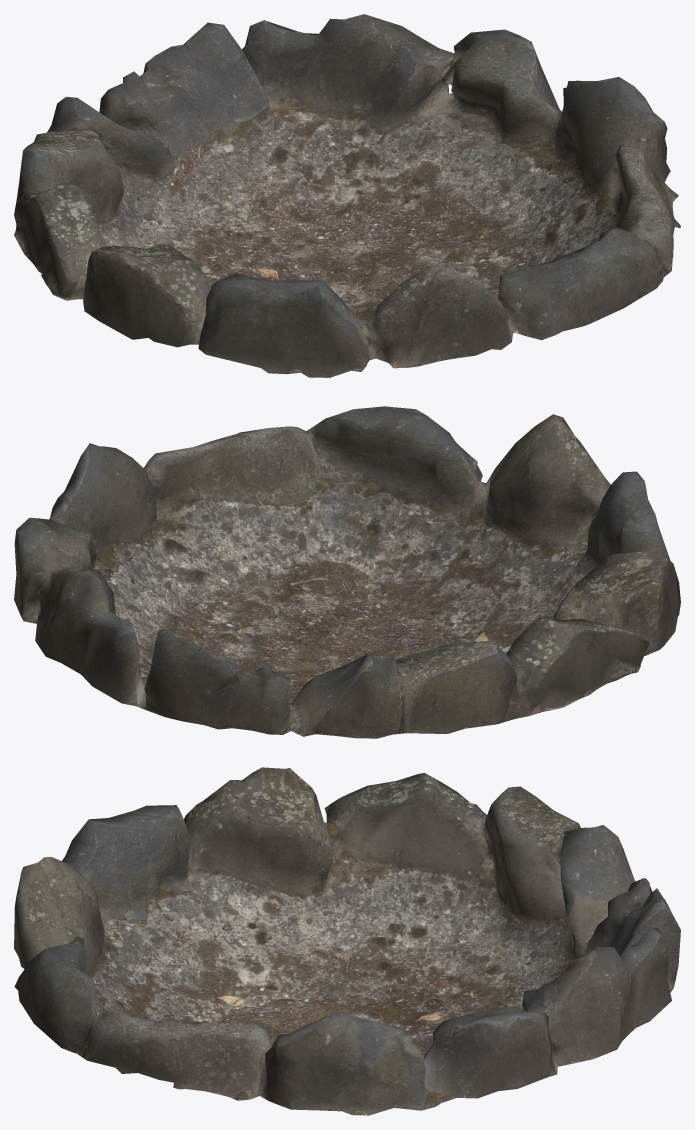
Rendered from firepit.glb.
3 views of the same model, one above another, from view 1: azimuth 30°, elevation 25°; view 2: azimuth 150°, elevation 25°; view 3: azimuth 270°, elevation 25° (orthographic).
Visible parts, largest first — view 1: stone_fire_pit; view 2: stone_fire_pit; view 3: stone_fire_pit.
Boxes of the visible parts, x1=… form: stone_fire_pit: x1=14, y1=14, x2=680, y2=377; stone_fire_pit: x1=14, y1=406, x2=680, y2=738; stone_fire_pit: x1=14, y1=767, x2=680, y2=1115.
Bounding box in the file's own units: 1.45 × 0.3883 × 1.43.
1 material, 1 textured.
